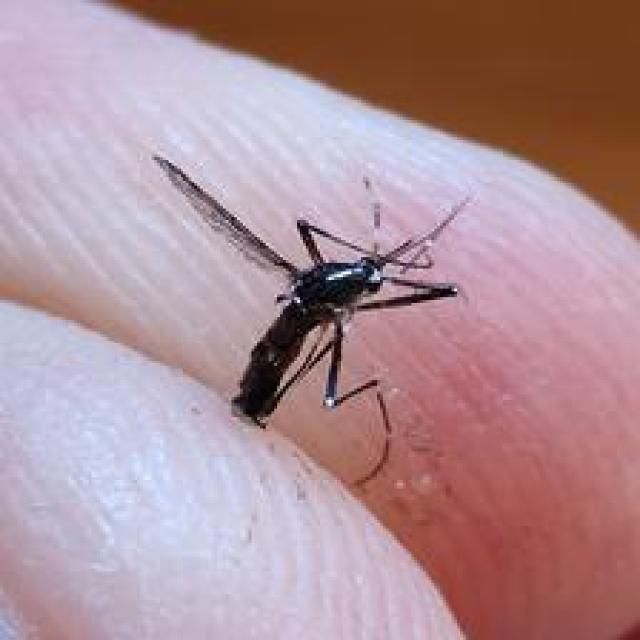Aedes albopictus: (150, 152, 476, 488)
